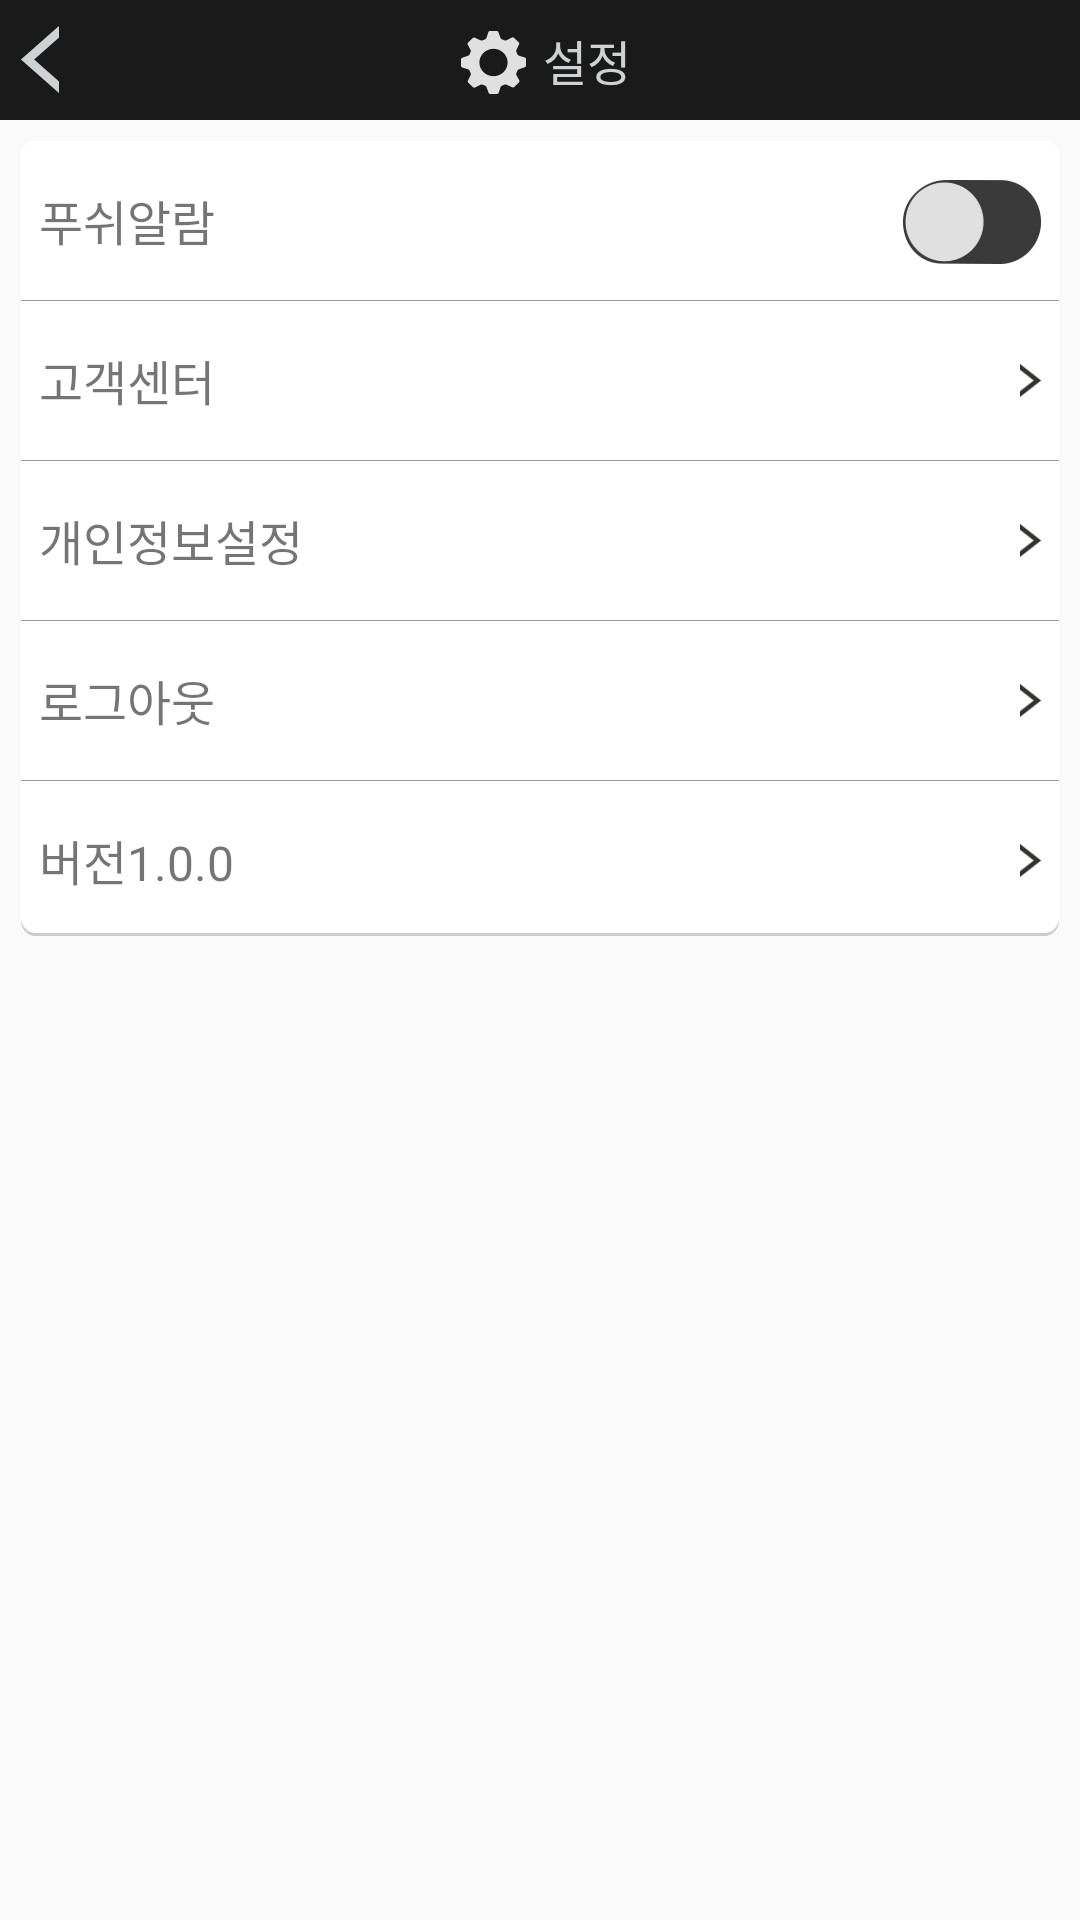

Screen size 1080 × 1920. Icon name, then its box in pixels as (x1, y1, x2, y2):
activity back: (21, 26, 59, 93)
off: (903, 180, 1041, 264)
